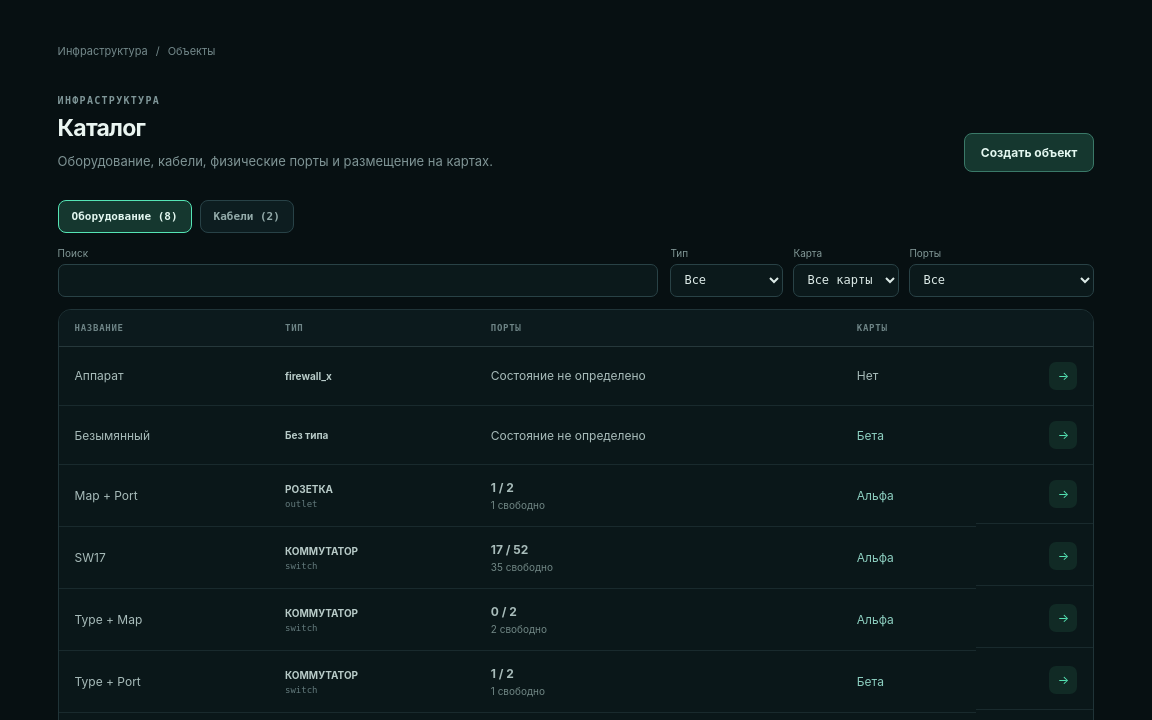
InfrastructureObjectsPage inventory catalog › separates canonical cables, preserves endpoint object links, and does not link cable names
Click the tab "Кабели (2)". click: (247,216)
box: left=200, top=200, right=294, bottom=232
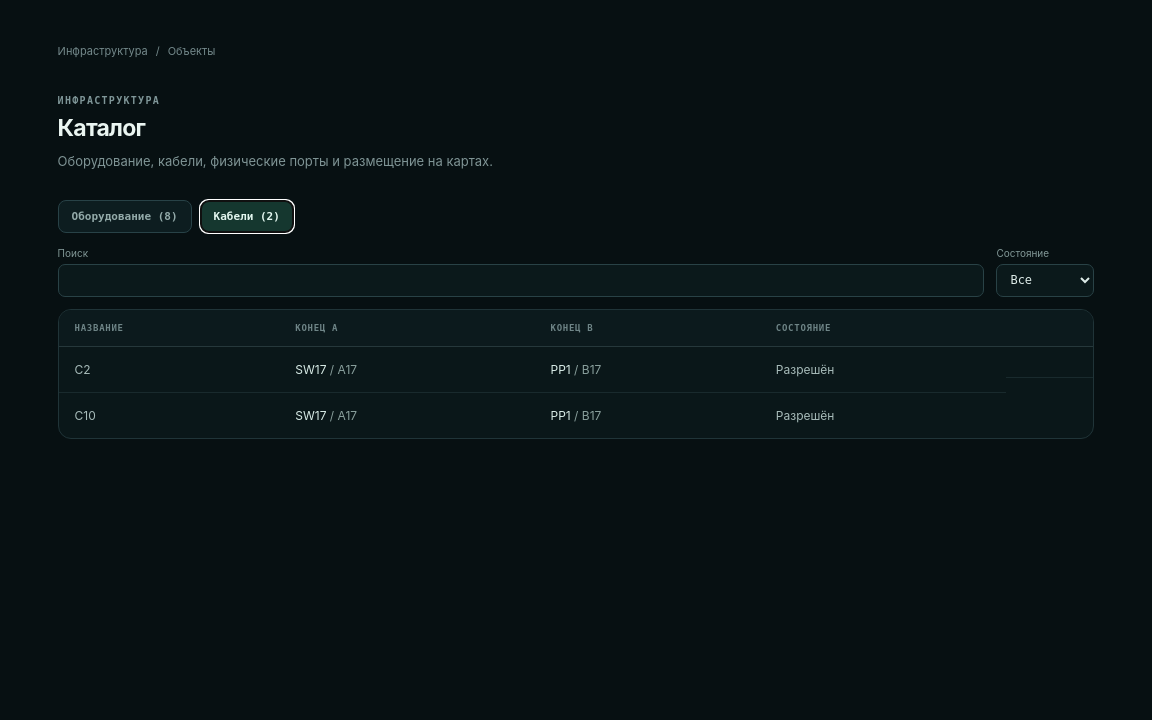
Now the text "C10" shows "SW17 / A17", box left=59, top=392, right=1093, bottom=438
Now the link to "/infrastructure/objects/sw17" is shown, box left=295, top=408, right=326, bottom=422
Now the link to "/infrastructure/objects/pp" reads "PP1", box left=550, top=408, right=571, bottom=422
